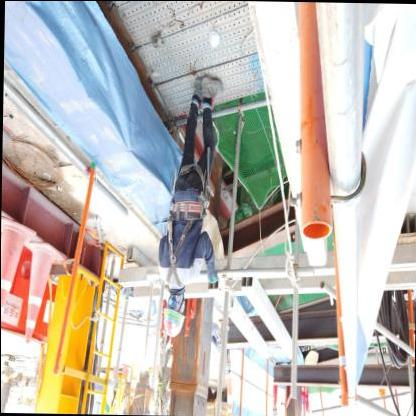safety-shoe: (198, 71, 224, 105), (188, 73, 207, 101)
